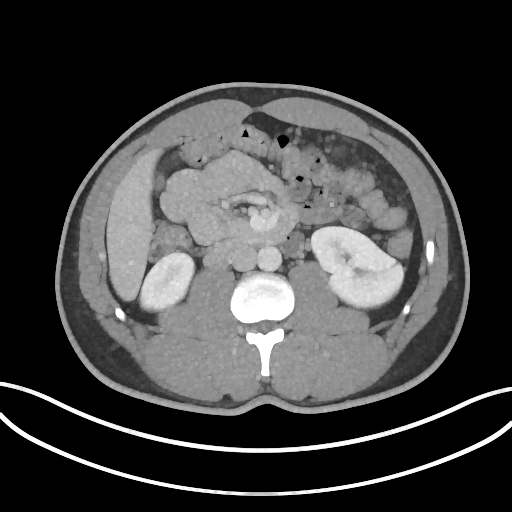Lesion: (387, 257, 403, 271)
